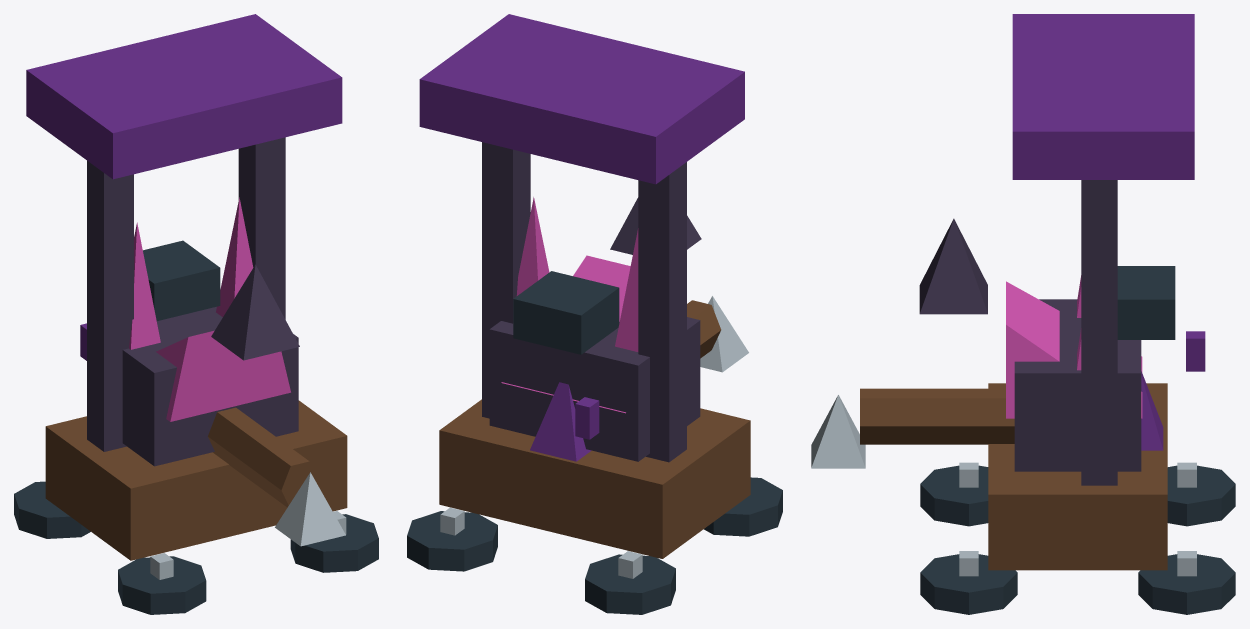
File: siege-tower.obj
3 views of the same model, side by side, from view 1: azimuth 30°, elevation 25°; view 2: azimuth 150°, elevation 25°; view 3: azimuth 270°, elevation 25° (orthographic). The views are drawn at different scales.
Parts seen in each view (by area): view 1: siege; view 2: siege; view 3: siege.
Boxes of the visible parts, box(x1,y1,x2,y2) form: siege: box(14, 14, 378, 614); siege: box(407, 14, 782, 614); siege: box(811, 14, 1235, 614).
Bounding box in the file's own units: 1.42 × 2.46 × 1.98.
